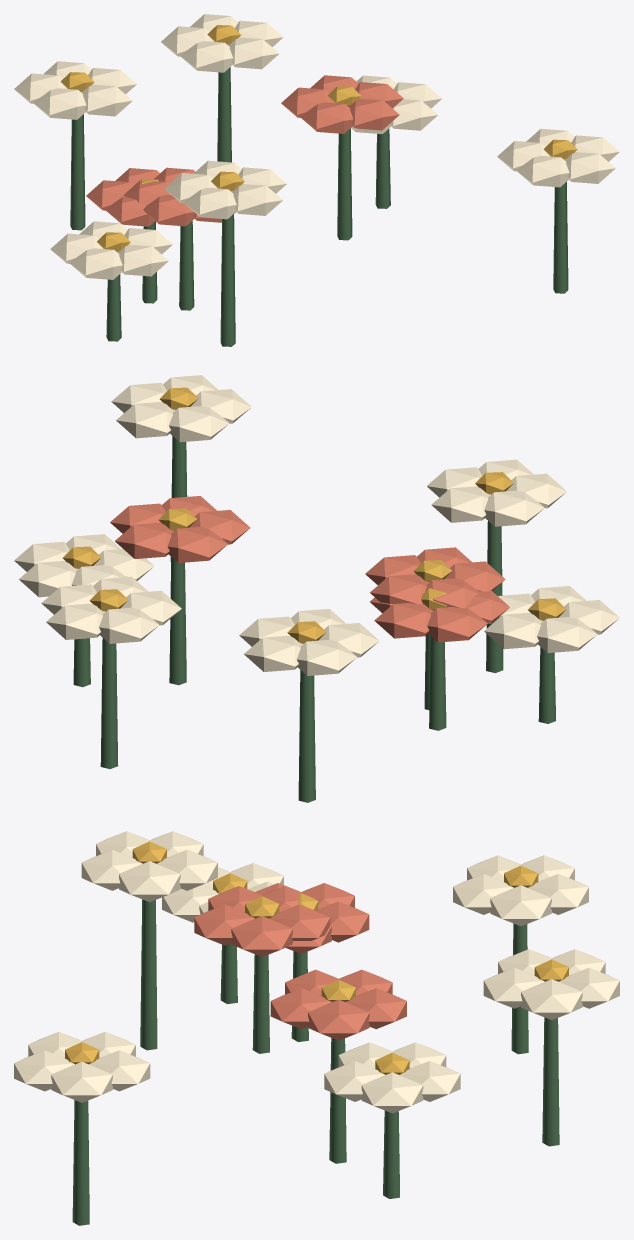
The model's file is flowers.glb.
3 renders of one model, top to bottom at view 1: azimuth 30°, elevation 25°; view 2: azimuth 150°, elevation 25°; view 3: azimuth 270°, elevation 25°, orthographic. The views are drawn at different scales.
Parts seen in each view (by area): view 1: surface_#fff2d6, surface_#577d5b, surface_#df8269, surface_#e3b451; view 2: surface_#fff2d6, surface_#df8269, surface_#577d5b, surface_#e3b451; view 3: surface_#fff2d6, surface_#df8269, surface_#577d5b, surface_#e3b451.
Part boxes in pixels (x1,y1,x2,y2): surface_#fff2d6: (14, 14, 619, 279); surface_#577d5b: (70, 44, 568, 346); surface_#df8269: (86, 75, 403, 226); surface_#e3b451: (60, 25, 577, 251); surface_#fff2d6: (14, 375, 619, 675); surface_#df8269: (110, 496, 509, 642); surface_#577d5b: (73, 409, 555, 802); surface_#e3b451: (63, 387, 566, 643); surface_#fff2d6: (14, 831, 619, 1113); surface_#df8269: (194, 883, 406, 1040); surface_#577d5b: (72, 899, 559, 1225); surface_#e3b451: (65, 841, 568, 1074).
Bounding box in the file's own units: 1.11 × 0.3729 × 1.02.
